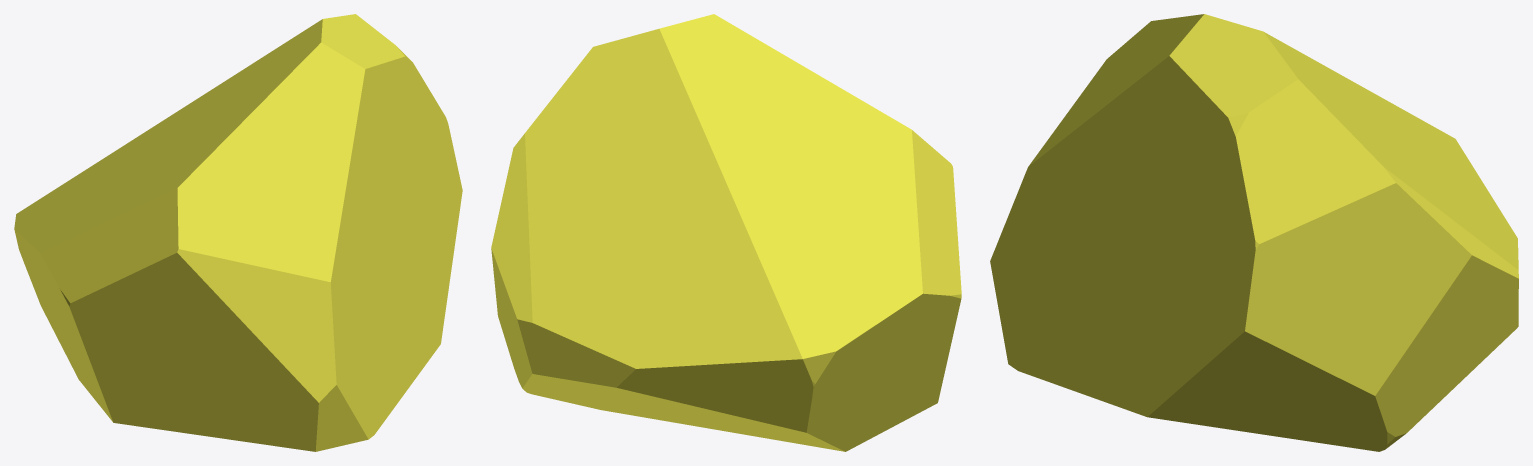
The model's file is sulfur.fbx.
The picture shows the model from 3 angles, left to right: view 1: azimuth 30°, elevation 25°; view 2: azimuth 150°, elevation 25°; view 3: azimuth 270°, elevation 25°; orthographic projection. The views are drawn at different scales.
Parts seen in each view (by area): view 1: Sphere.002; view 2: Sphere.002; view 3: Sphere.002.
Boxes of the visible parts, <box> form: Sphere.002: <box>14,14,462,451</box>; Sphere.002: <box>491,14,961,451</box>; Sphere.002: <box>990,14,1518,451</box>.
Size of the model in its own units: 195 by 159 by 193.
